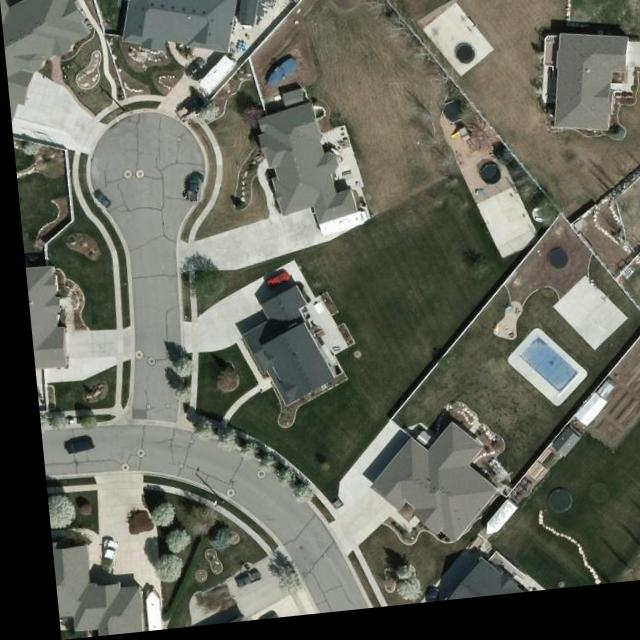vehicle: (171, 97, 206, 129), (176, 175, 204, 210), (221, 573, 252, 596), (87, 540, 107, 575), (181, 59, 206, 87), (258, 276, 287, 298), (88, 189, 110, 213), (55, 440, 87, 456)
